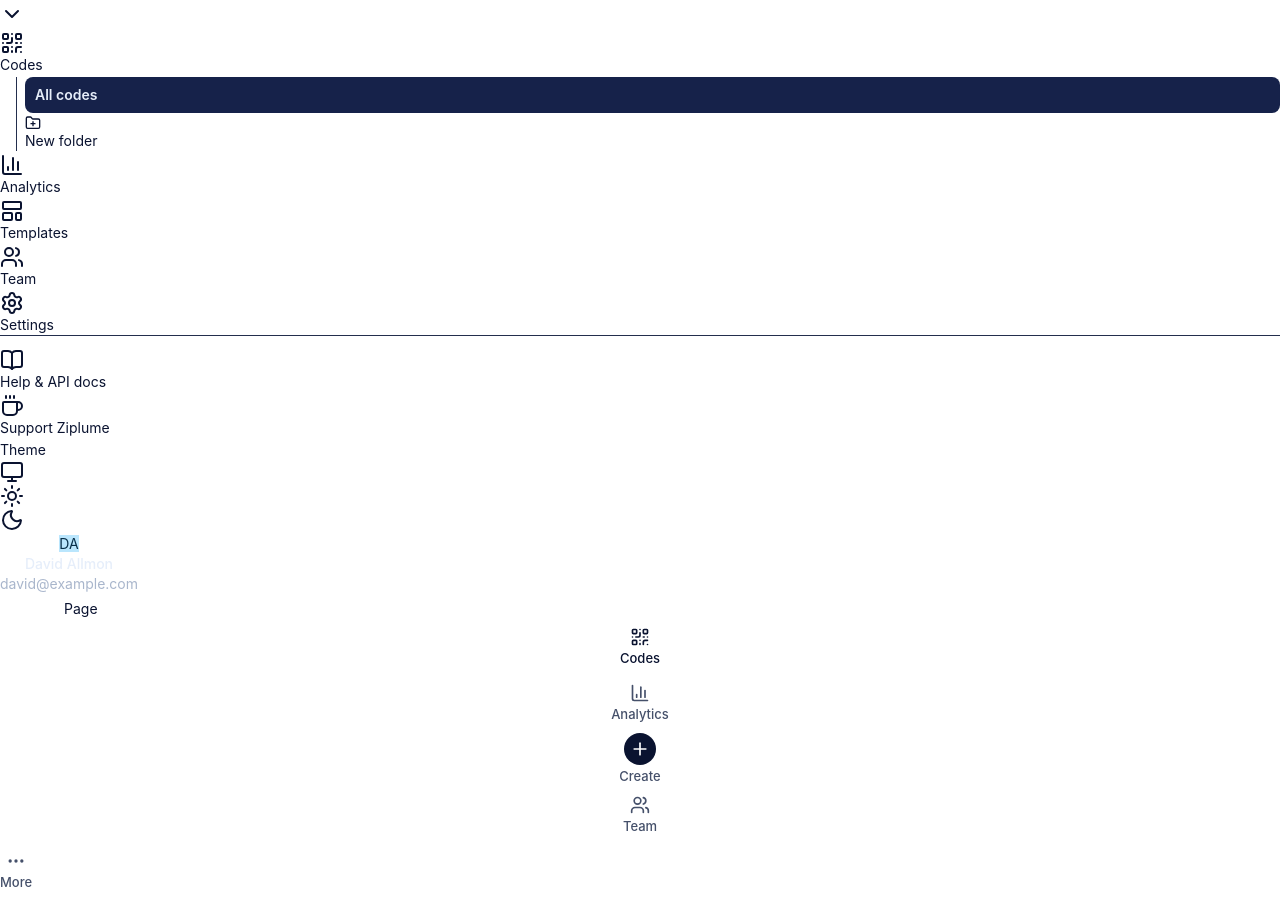
Test: AppShell › puts settings, help, support and sign out under More on phones
(page scrolled)
Click the button "More": [16, 871] box [0,843,32,898]
(page scrolled)
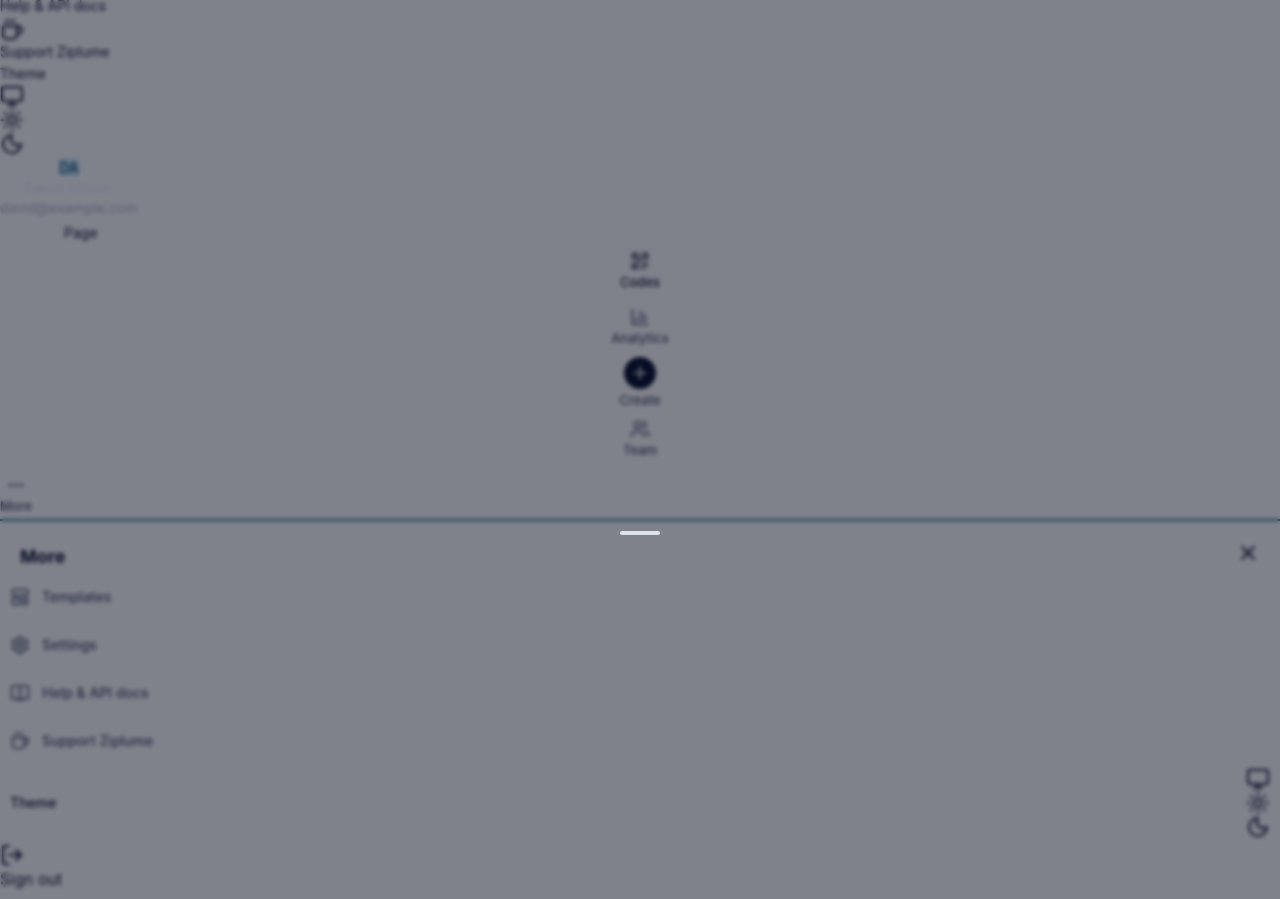
expect the link "Settings" is shown: met, box [10,635,97,655]
expect the link "Help & API docs" is shown: met, box [10,683,149,703]
expect the link "Support Ziplume" is shown: met, box [10,731,153,751]
